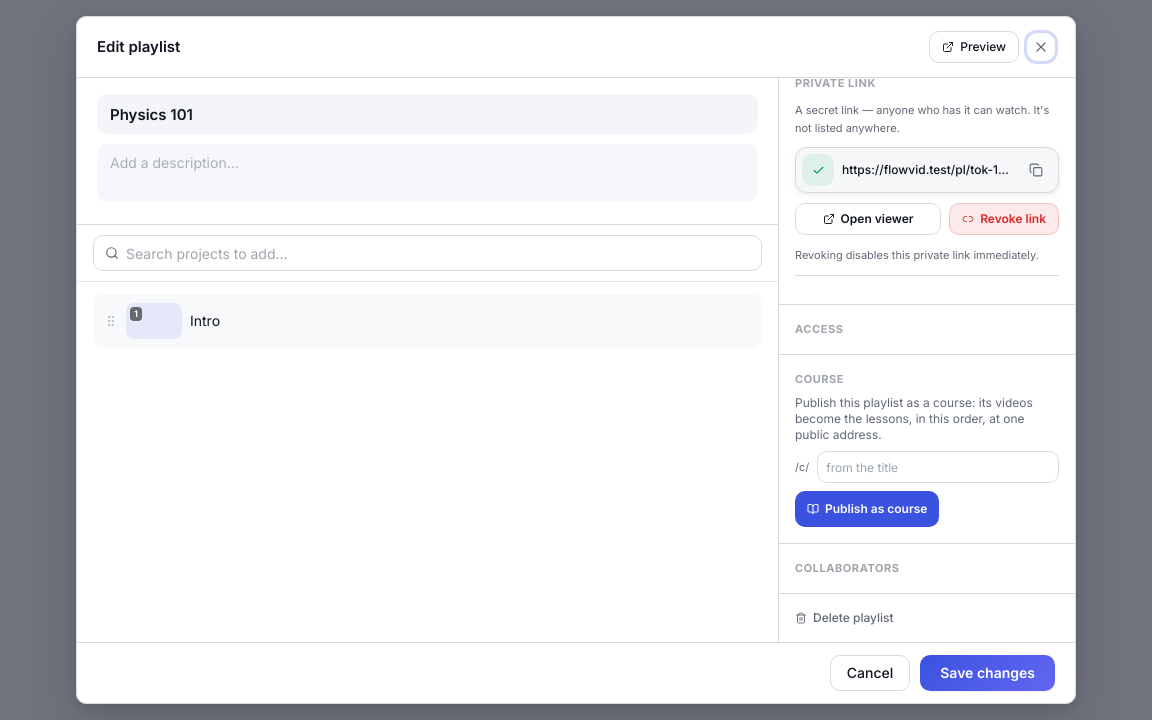
Test case: playlist editor — Delete › reports the failure and keeps the dialog open
(page scrolled)
Click the button "Delete playlist" at {"x": 844, "y": 618}, box x1=795 y1=610 x2=894 y2=626
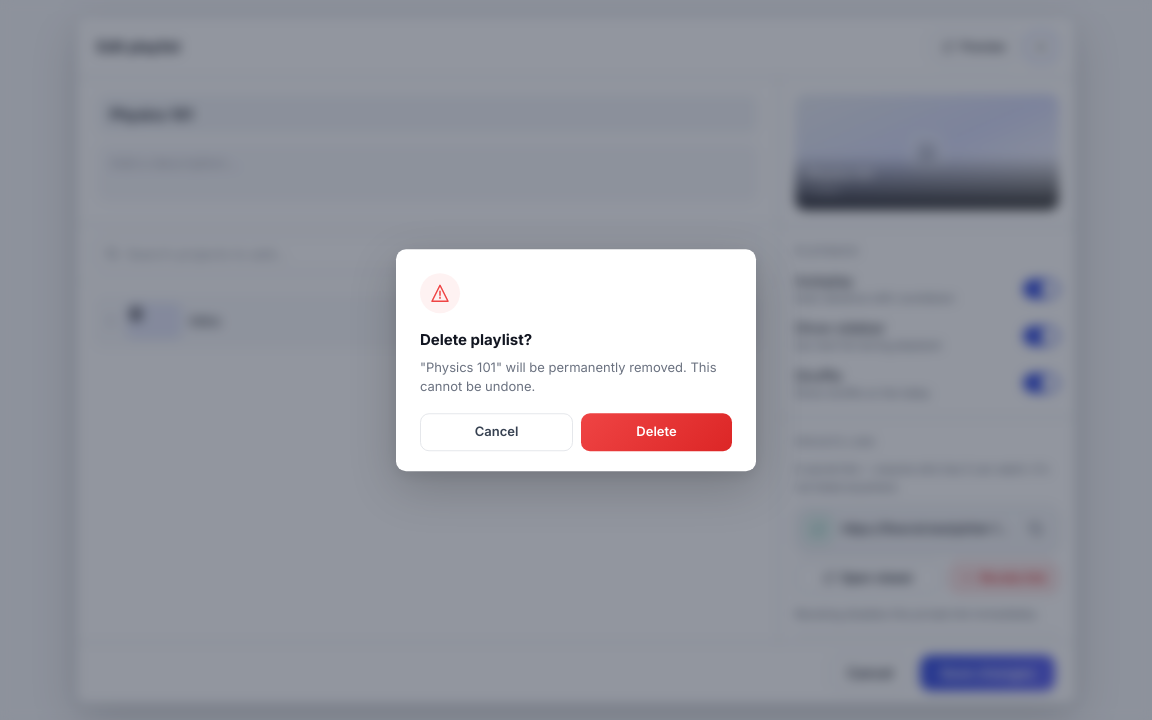
Click the button "Delete" at {"x": 656, "y": 432}, box x1=581 y1=413 x2=732 y2=451
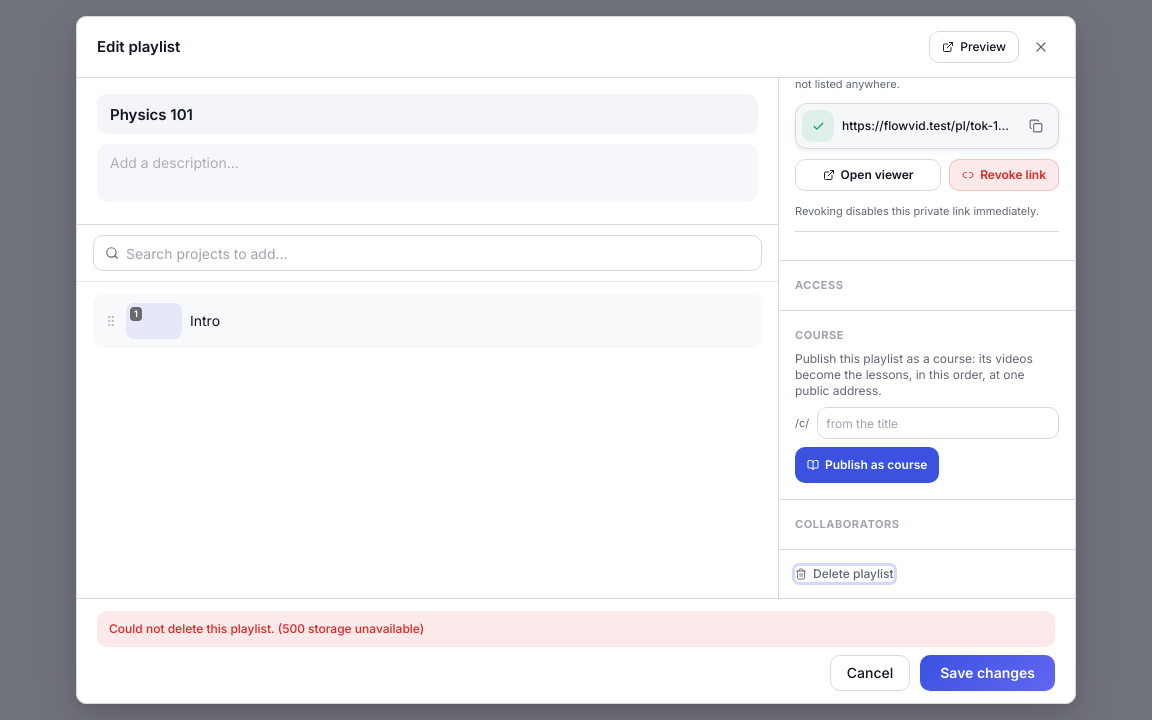
Expected: the message shows "delete", x1=109 y1=621 x2=424 y2=636
Expected: the message shows "500 storage unavailable", x1=109 y1=621 x2=424 y2=636
